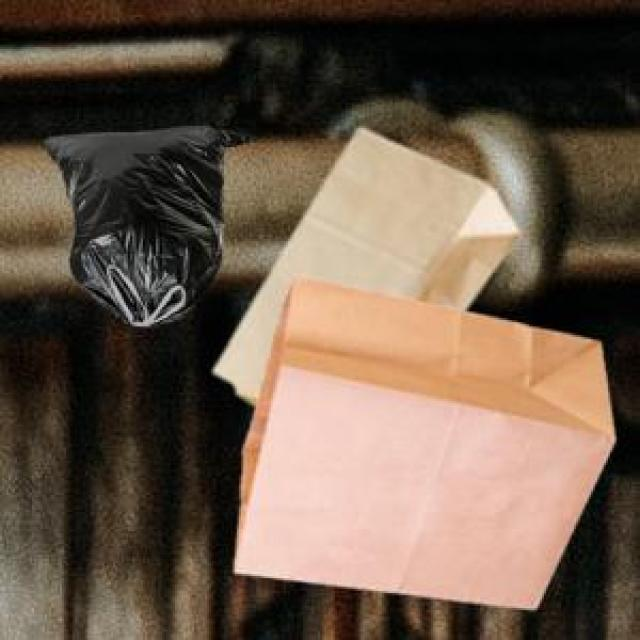miscellaneous trash: (36, 122, 250, 322)
paper: (230, 271, 610, 604), (209, 124, 514, 401)
